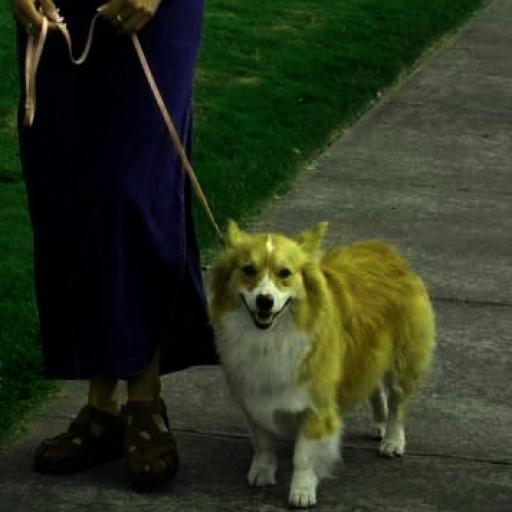dog_face: (220, 217, 328, 334)
